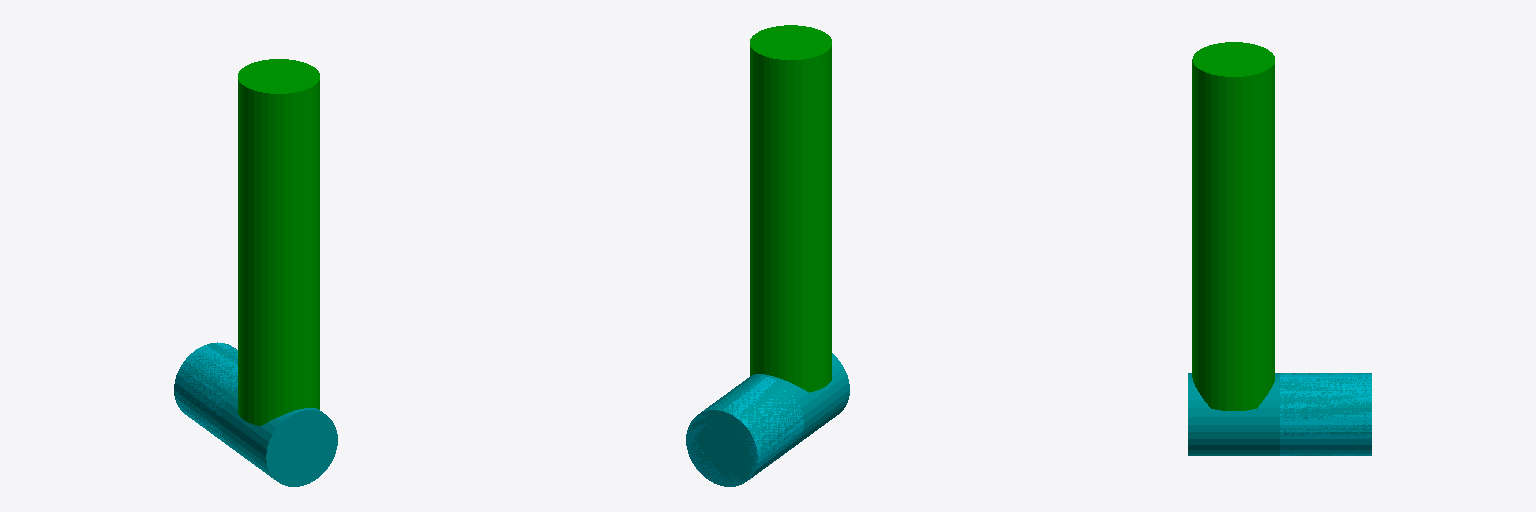
Rendered from shouldercylinder.obj.
The picture shows the model from 3 angles: view 1: azimuth 30°, elevation 25°; view 2: azimuth 150°, elevation 25°; view 3: azimuth 270°, elevation 25°; orthographic projection.
Parts seen in each view (by area): view 1: Cylinder.001_Cylinder.002, Cylinder.002_Cylinder.003, Cylinder; view 2: Cylinder.001_Cylinder.002, Cylinder.002_Cylinder.003, Cylinder; view 3: Cylinder.001_Cylinder.002, Cylinder.002_Cylinder.003, Cylinder.
Boxes of the visible parts, <box> form: Cylinder.001_Cylinder.002: <box>238,59,319,425</box>; Cylinder.002_Cylinder.003: <box>174,343,337,486</box>; Cylinder: <box>174,342,237,446</box>; Cylinder.001_Cylinder.002: <box>750,25,831,392</box>; Cylinder.002_Cylinder.003: <box>688,353,849,485</box>; Cylinder: <box>686,376,803,486</box>; Cylinder.001_Cylinder.002: <box>1192,42,1274,410</box>; Cylinder.002_Cylinder.003: <box>1188,373,1371,455</box>; Cylinder: <box>1280,373,1371,455</box>.
Bounding box in the file's own units: 180 × 940 × 400.